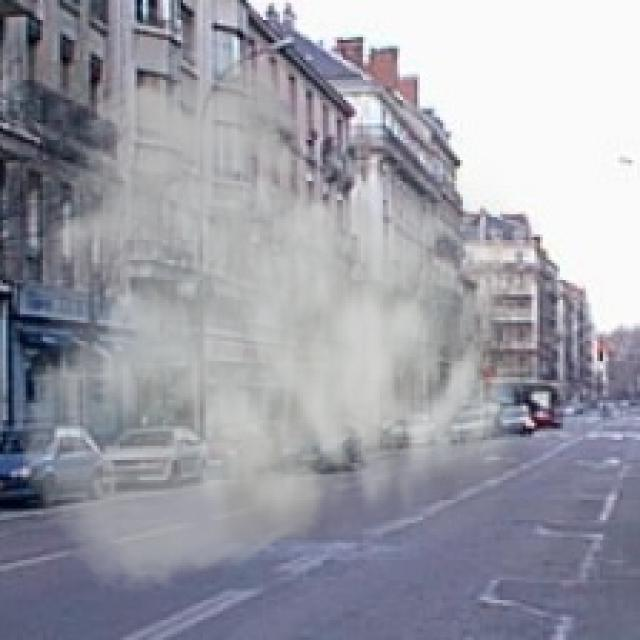smoke: (11, 43, 552, 597)
